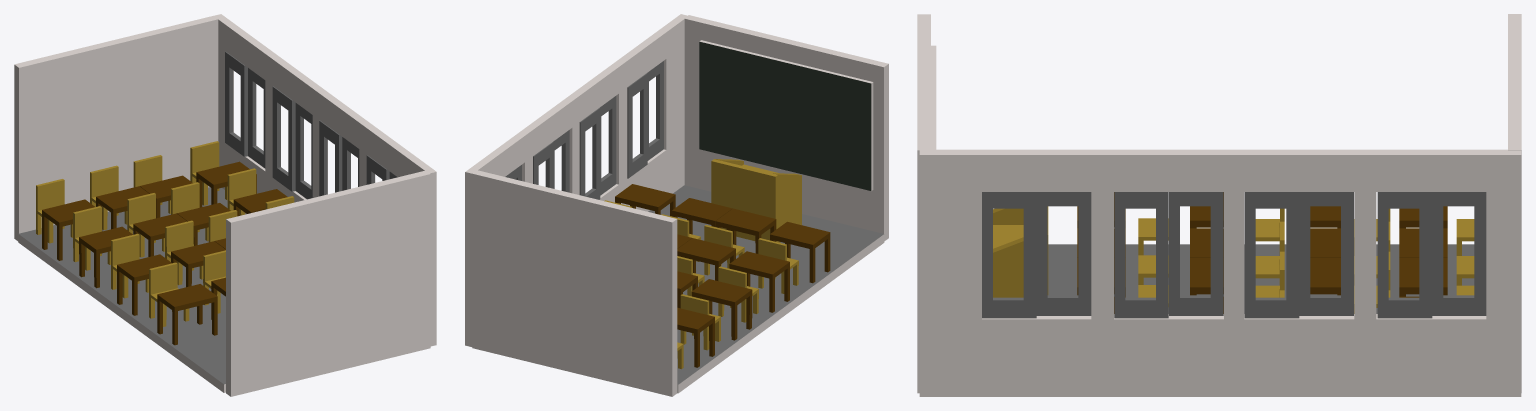
The model's file is classroom no tex.fbx.
3 views of the same model, side by side, from view 1: azimuth 30°, elevation 25°; view 2: azimuth 150°, elevation 25°; view 3: azimuth 270°, elevation 25° (orthographic). The views are drawn at different scales.
Parts seen in each view (by area): view 1: polySurface29, polySurface27, pCube47, polySurface30, polySurface53, polySurface51, polySurface55, polySurface57, polySurface52, polySurface54, polySurface58, polySurface56 (+16 smaller); view 2: polySurface27, pCube47, pCube42, polySurface29, polySurface30, pCube43, polySurface53, polySurface55, polySurface51, polySurface45, polySurface43, polySurface11 (+8 smaller); view 3: pCube47, polySurface30, pCube43, polySurface29, polySurface27, polySurface39, polySurface41, polySurface47, polySurface36, polySurface49, polySurface46, polySurface55 (+6 smaller).
Boxes of the visible parts, x1,y1,x2,y2 form: polySurface29: (226, 170, 430, 396); polySurface27: (14, 15, 218, 241); pCube47: (214, 14, 436, 346); polySurface30: (18, 187, 246, 392); polySurface53: (157, 284, 217, 345); polySurface51: (117, 254, 171, 315); polySurface55: (79, 226, 132, 288); polySurface57: (42, 199, 102, 260); polySurface52: (149, 262, 189, 326); polySurface54: (111, 233, 148, 298); polySurface58: (36, 179, 72, 243); polySurface56: (73, 206, 110, 270); polySurface27: (472, 170, 677, 396); pCube47: (465, 14, 687, 346); pCube42: (699, 40, 873, 190); polySurface29: (684, 15, 888, 241); polySurface30: (648, 185, 884, 393); pCube43: (711, 159, 801, 242); polySurface53: (770, 221, 830, 283); polySurface55: (691, 279, 752, 340); polySurface51: (729, 251, 789, 312); polySurface45: (715, 208, 776, 253); polySurface43: (677, 238, 735, 280); polySurface11: (615, 184, 675, 216); pCube47: (919, 149, 1521, 396); polySurface30: (1048, 244, 1474, 313); pCube43: (993, 206, 1048, 297); polySurface29: (917, 14, 930, 393); polySurface27: (1508, 14, 1521, 392); polySurface39: (1310, 258, 1340, 295); polySurface41: (1399, 258, 1447, 296); polySurface47: (1310, 228, 1340, 257); polySurface36: (1190, 258, 1223, 295); polySurface49: (1399, 228, 1447, 257); polySurface46: (1255, 221, 1284, 285); polySurface55: (1310, 206, 1340, 228).
Bounding box in the file's own units: 13.38 × 10.71 × 24.12.
